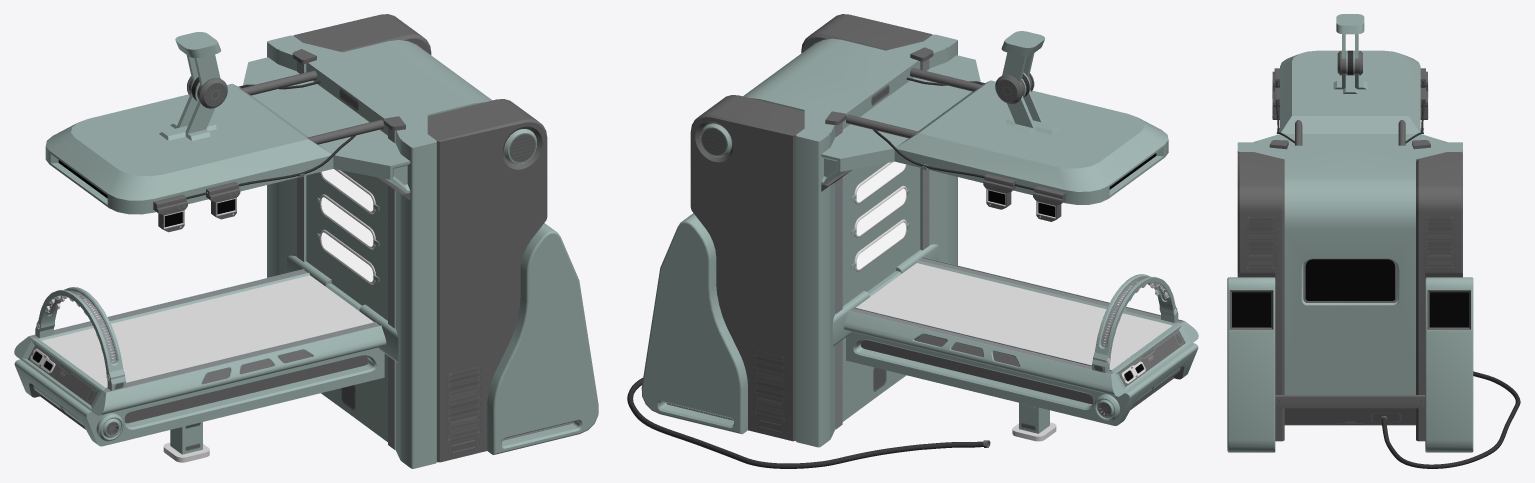
The picture shows the model from 3 angles, left to right: view 1: azimuth 30°, elevation 25°; view 2: azimuth 150°, elevation 25°; view 3: azimuth 270°, elevation 25°; orthographic projection. The views are drawn at different scales.
Parts seen in each view (by area): view 1: OperatingTable, Decal_Atlas, Operating_Scanner; view 2: OperatingTable, Decal_Atlas, Operating_Scanner, Cable; view 3: OperatingTable, Decal_Atlas, Cable.
Boxes of the visible parts, <box> form: OperatingTable: <box>14,14,598,468</box>; Decal_Atlas: <box>32,83,536,454</box>; Operating_Scanner: <box>35,287,126,390</box>; OperatingTable: <box>641,14,1198,447</box>; Decal_Atlas: <box>701,79,1183,433</box>; Operating_Scanner: <box>1092,274,1178,373</box>; Cable: <box>627,378,990,468</box>; OperatingTable: <box>1227,14,1473,452</box>; Decal_Atlas: <box>1246,217,1454,422</box>; Cable: <box>1381,371,1520,468</box>.
Size of the model in its own units: 4.2 by 3.29 by 2.76.
Materials: 4 (1 with a texture image).
